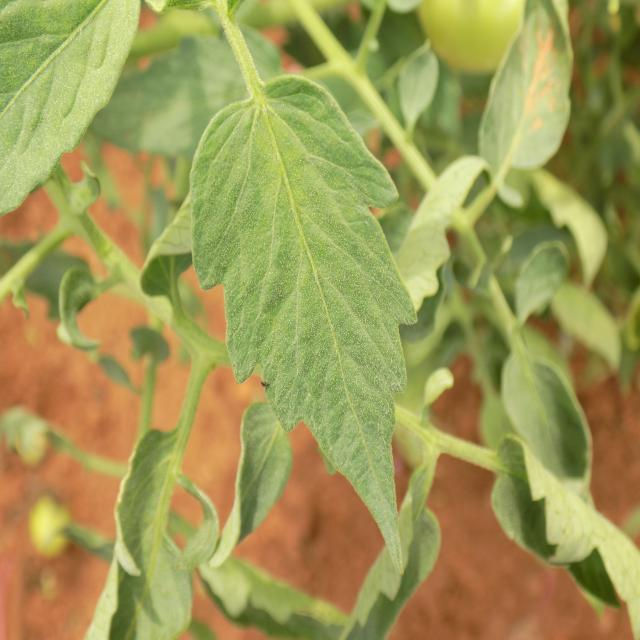tomato_healthy: (184, 73, 418, 578)
